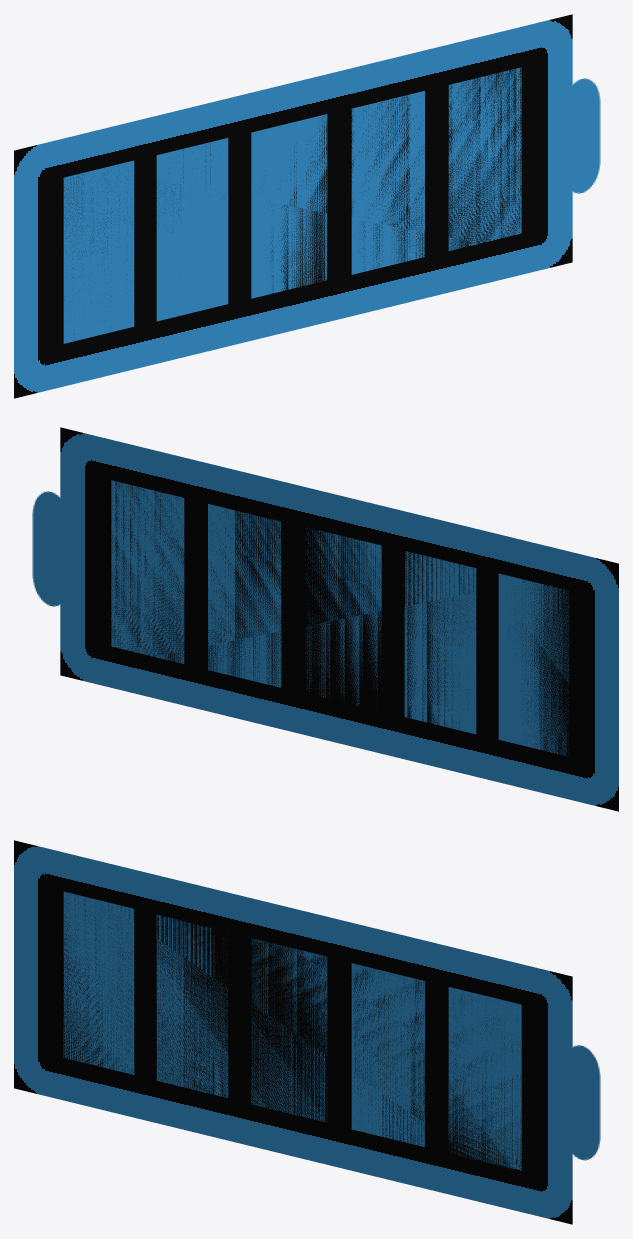
The model's file is battery.glb.
3 views of the same model, one above another, from view 1: azimuth 30°, elevation 25°; view 2: azimuth 150°, elevation 25°; view 3: azimuth 330°, elevation 25° (orthographic).
Parts seen in each view (by area): view 1: mesh_id36, mesh_id51, mesh_id52, mesh_id53, mesh_id43, mesh_id50, mesh_id38; view 2: mesh_id36, mesh_id53, mesh_id43, mesh_id52, mesh_id50, mesh_id51, mesh_id38; view 3: mesh_id36, mesh_id52, mesh_id53, mesh_id50, mesh_id43, mesh_id51, mesh_id38.
Part boxes in pixels (<box>): mesh_id36: <box>14,14,572,398</box>; mesh_id51: <box>251,114,327,298</box>; mesh_id52: <box>351,91,424,274</box>; mesh_id53: <box>448,67,521,250</box>; mesh_id43: <box>156,138,228,321</box>; mesh_id50: <box>63,160,134,343</box>; mesh_id38: <box>563,78,600,193</box>; mesh_id36: <box>60,427,618,811</box>; mesh_id53: <box>111,480,184,663</box>; mesh_id43: <box>404,551,476,734</box>; mesh_id52: <box>208,504,281,687</box>; mesh_id50: <box>498,573,569,756</box>; mesh_id51: <box>305,528,381,705</box>; mesh_id38: <box>32,491,69,606</box>; mesh_id36: <box>14,840,572,1224</box>; mesh_id52: <box>351,963,424,1146</box>; mesh_id53: <box>448,987,521,1170</box>; mesh_id50: <box>63,891,134,1074</box>; mesh_id43: <box>156,915,228,1097</box>; mesh_id51: <box>251,938,327,1121</box>; mesh_id38: <box>563,1045,600,1160</box>.
Size of the model in its own units: 0.4721 by 0.185 by 0.
Materials: 7 (7 with a texture image).
